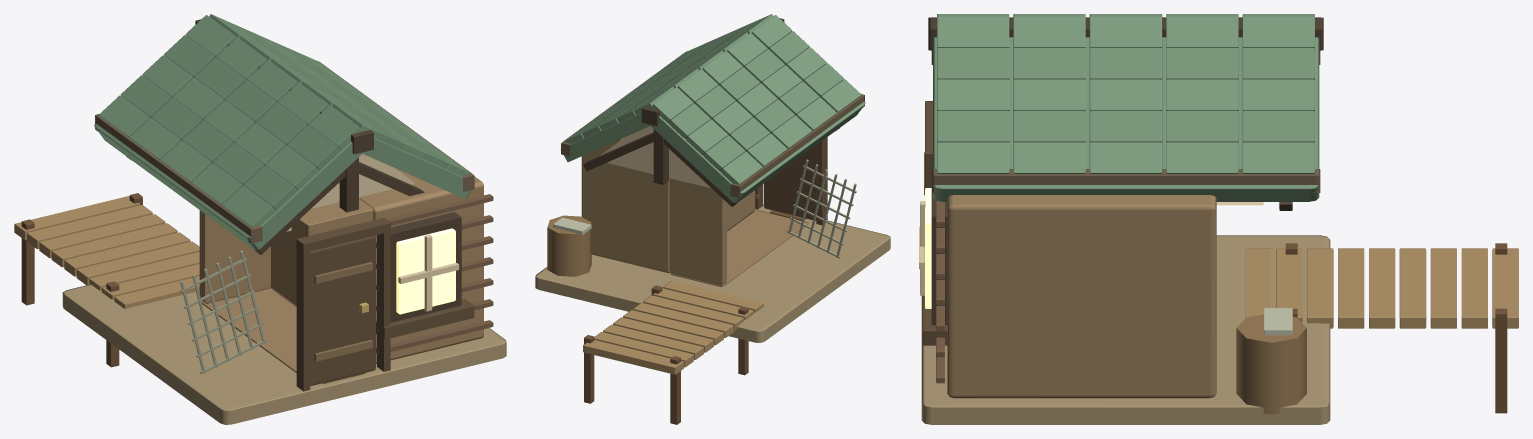
The model's file is fishinghut-1.glb.
3 renders of one model, left to right at view 1: azimuth 30°, elevation 25°; view 2: azimuth 150°, elevation 25°; view 3: azimuth 270°, elevation 25°, orthographic. The views are drawn at different scales.
Parts seen in each view (by area): view 1: fishinghut-1-0, door-hinge; view 2: fishinghut-1-0, door-hinge; view 3: fishinghut-1-0.
Part boxes in pixels (left/top/right/bottom): fishinghut-1-0: left=14, top=14, right=506, bottom=424; door-hinge: left=310, top=236, right=375, bottom=385; fishinghut-1-0: left=535, top=14, right=890, bottom=424; door-hinge: left=764, top=145, right=816, bottom=220; fishinghut-1-0: left=919, top=14, right=1518, bottom=424.
Size of the model in its own units: 1.87 by 1.97 by 2.72.
